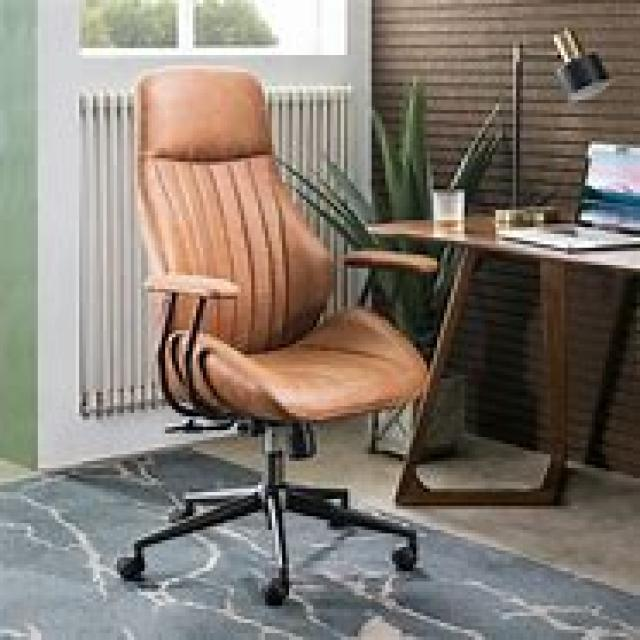chair: (114, 62, 437, 606)
